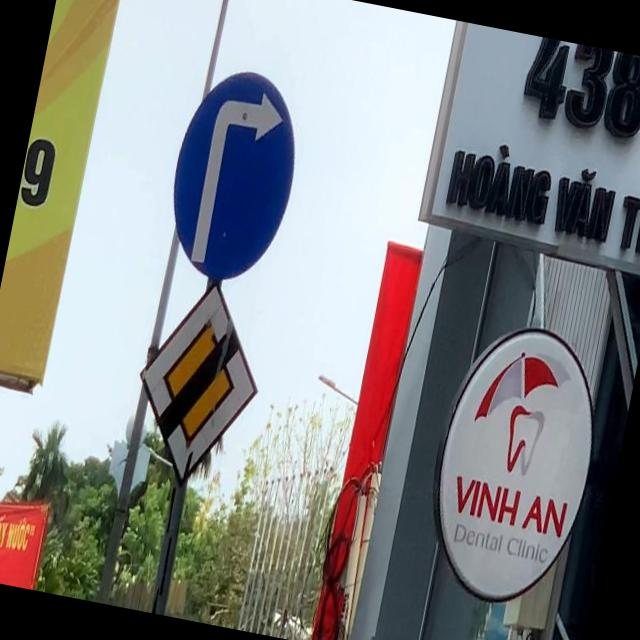R-301d: (157, 62, 310, 289)
